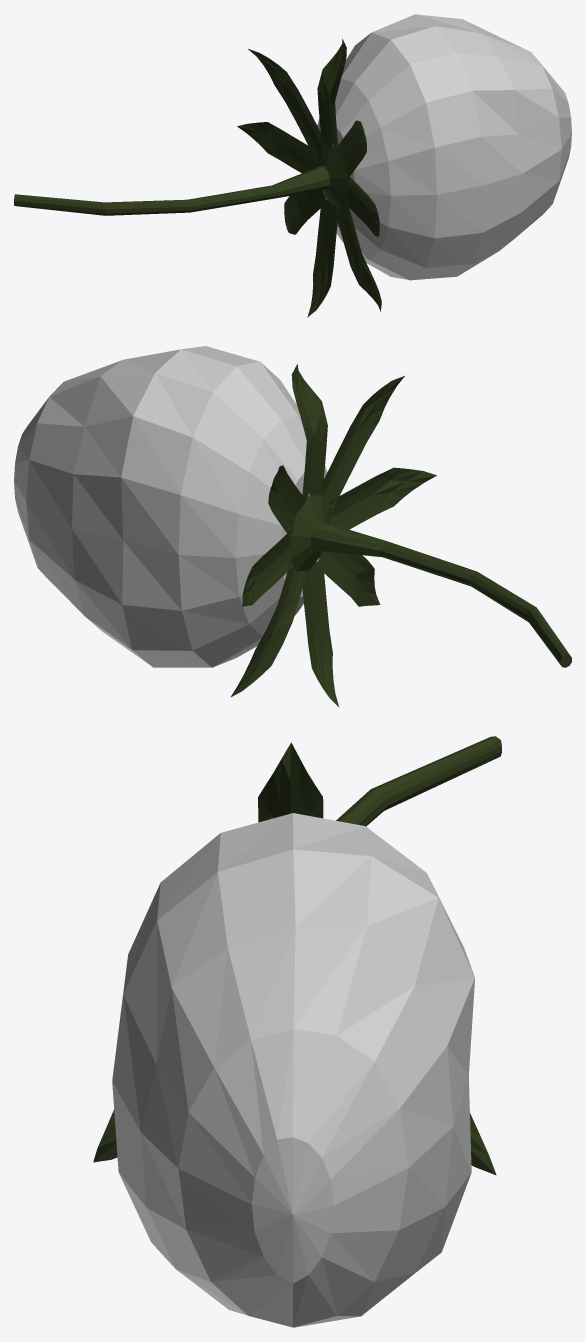
Rendered from StrawberryFruit.obj.
3 renders of one model, top to bottom at view 1: azimuth 30°, elevation 25°; view 2: azimuth 150°, elevation 25°; view 3: azimuth 270°, elevation 25°, orthographic. The views are drawn at different scales.
Visible parts, largest first — view 1: fruit, sepal; view 2: fruit, sepal; view 3: fruit, sepal.
Boxes of the visible parts, <box> form: fruit: <box>317,14,571,280</box>; sepal: <box>14,39,381,317</box>; fruit: <box>14,346,329,667</box>; sepal: <box>230,364,571,707</box>; fruit: <box>112,813,474,1327</box>; sepal: <box>93,736,501,1175</box>.
Bounding box in the file's own units: 2.14 × 1.11 × 1.1.
